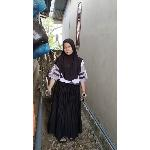Pedang: (44, 73, 52, 100)
